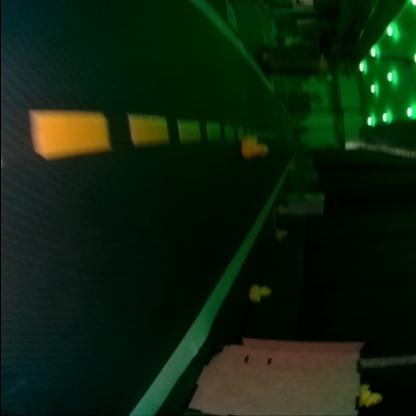Duckie: (241, 135, 266, 157), (360, 385, 382, 407), (250, 284, 272, 302)
